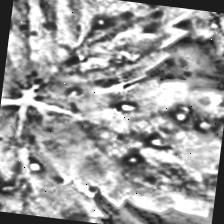Leaf Spot: (14, 58, 224, 220), (0, 0, 195, 124), (0, 105, 125, 224), (169, 7, 224, 62)
